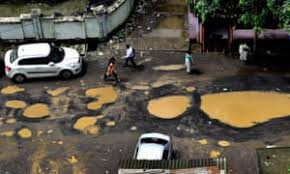potholes: (6, 75, 290, 141), (103, 82, 289, 132), (198, 83, 290, 139), (1, 81, 70, 136), (57, 100, 122, 138), (74, 80, 128, 112), (1, 118, 42, 148), (1, 78, 27, 99)
